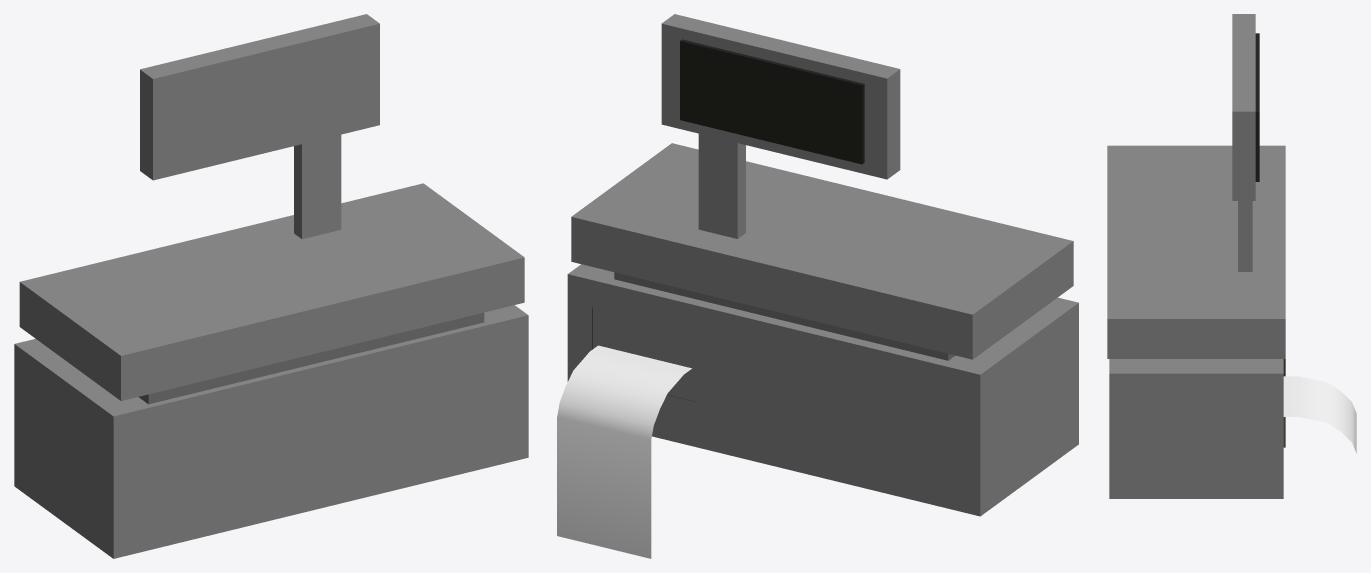
The model's file is cash_register.fbx.
3 views of the same model, side by side, from view 1: azimuth 30°, elevation 25°; view 2: azimuth 150°, elevation 25°; view 3: azimuth 270°, elevation 25° (orthographic). The views are drawn at different scales.
Visible parts, largest first — view 1: cash_register; view 2: cash_register; view 3: cash_register.
Part boxes in pixels (x1,y1,x2,y2): cash_register: (14, 14, 528, 558); cash_register: (557, 14, 1078, 558); cash_register: (1107, 14, 1356, 498).
Bounding box in the file's own units: 0.4625 × 0.5166 × 0.2732.
